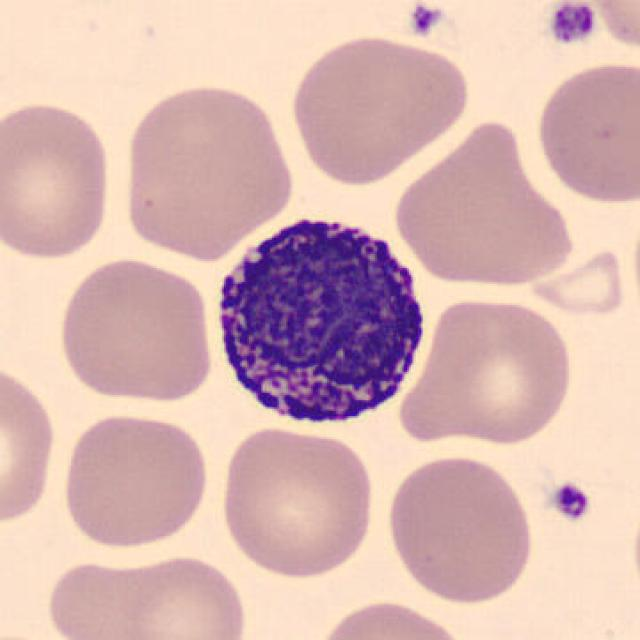basophil: (211, 218, 430, 428)
platelets: (402, 2, 456, 48), (546, 0, 593, 49), (547, 479, 596, 525)
rbc: (286, 34, 469, 180), (397, 129, 577, 277), (127, 88, 289, 245), (377, 446, 541, 600), (412, 299, 582, 442), (63, 261, 214, 401), (222, 430, 371, 568), (72, 411, 213, 550), (0, 97, 116, 260), (48, 550, 249, 640), (536, 62, 640, 210), (0, 360, 55, 525), (330, 594, 444, 640)
